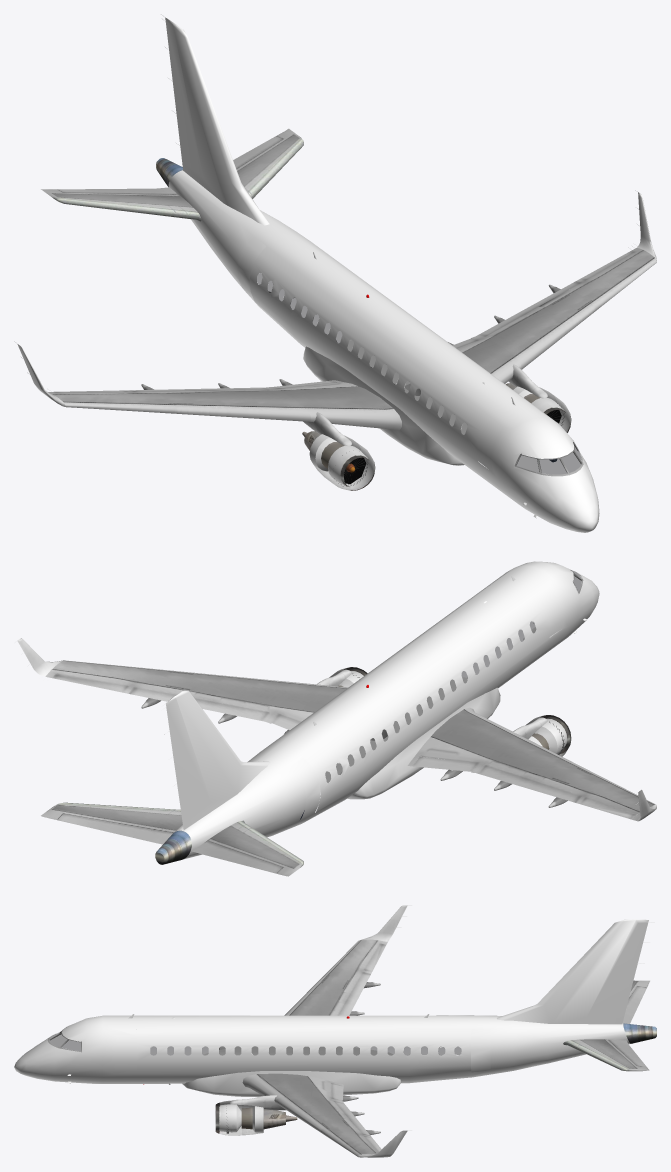
3 views of the same model, one above another, from view 1: azimuth 30°, elevation 25°; view 2: azimuth 150°, elevation 25°; view 3: azimuth 270°, elevation 25° (orthographic). The views are drawn at different scales.
Visible parts, largest first — view 1: fuselage.001; view 2: fuselage.001; view 3: fuselage.001.
Part boxes in pixels (x1=…): fuselage.001: x1=14, y1=14, x2=656, y2=532; fuselage.001: x1=15, y1=561, x2=656, y2=876; fuselage.001: x1=14, y1=905, x2=656, y2=1157.
Bounding box in the file's own units: 25.56 × 9.45 × 30.82.
9 materials, 5 textured.
